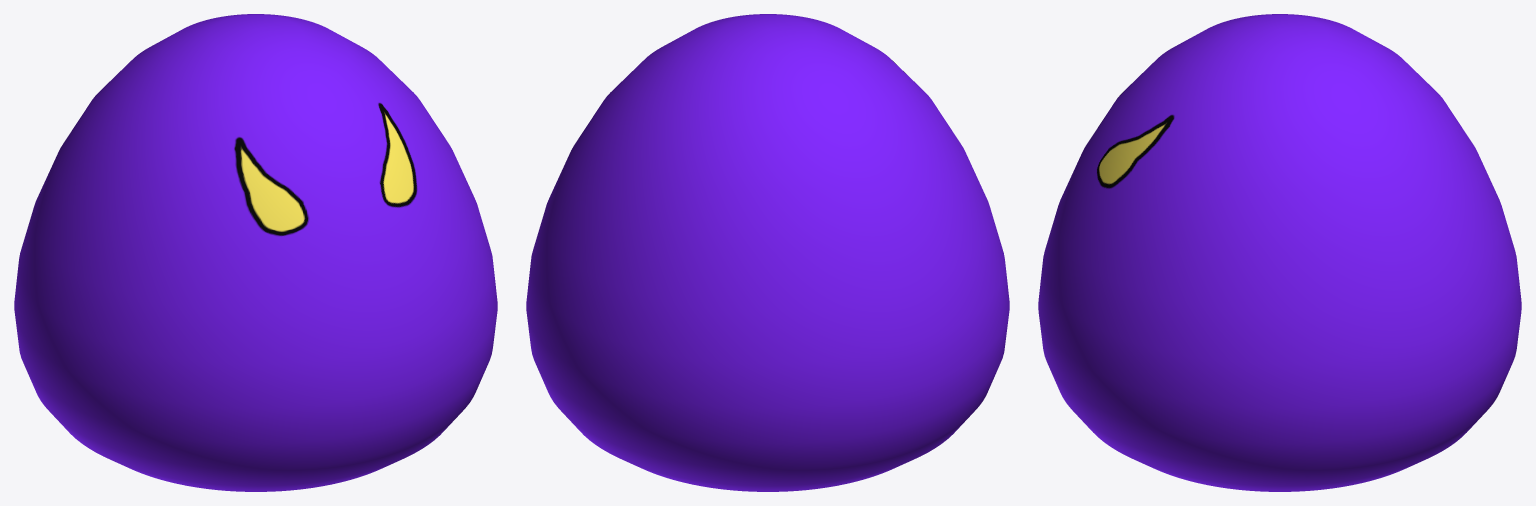
The model's file is EnemyBlob.fbx.
The picture shows the model from 3 angles, left to right: view 1: azimuth 30°, elevation 25°; view 2: azimuth 150°, elevation 25°; view 3: azimuth 270°, elevation 25°; orthographic projection.
Visible parts, largest first — view 1: Blob; view 2: Blob; view 3: Blob.
Part boxes in pixels (left/top/right/bottom): Blob: left=14, top=14, right=497, bottom=491; Blob: left=526, top=14, right=1009, bottom=491; Blob: left=1038, top=14, right=1521, bottom=491.
Bounding box in the file's own units: 200 × 184 × 200.
